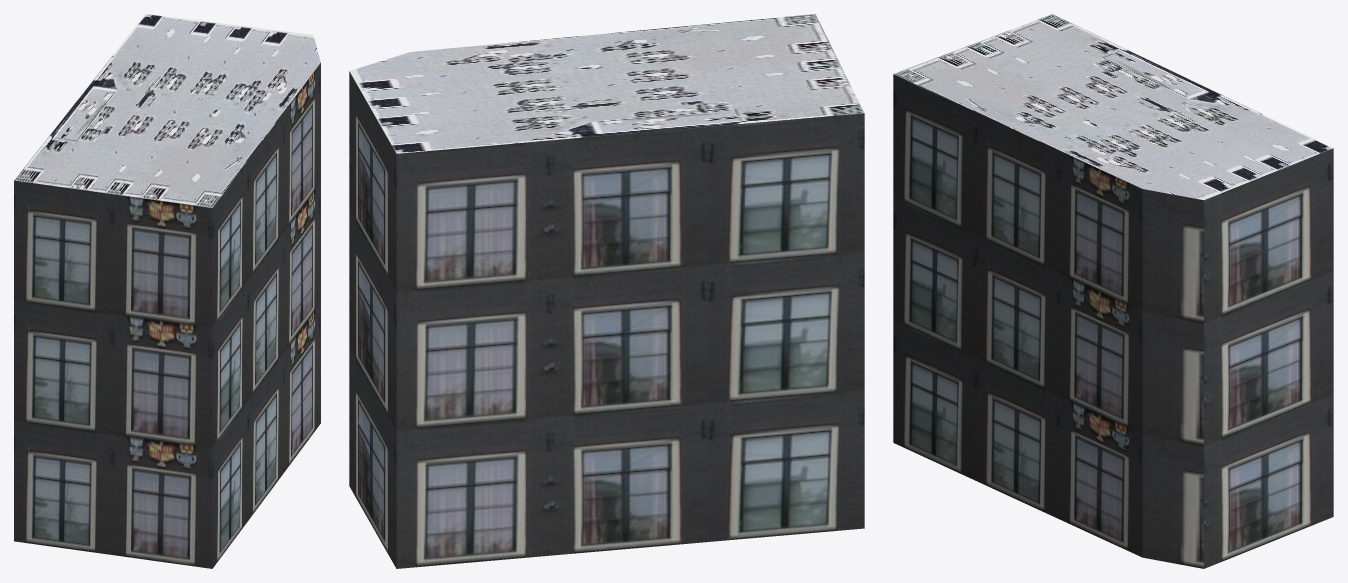
The model's file is ResTex__2811.fbx.
The picture shows the model from 3 angles, left to right: view 1: azimuth 30°, elevation 25°; view 2: azimuth 150°, elevation 25°; view 3: azimuth 270°, elevation 25°; orthographic projection. The views are drawn at different scales.
Parts seen in each view (by area): view 1: CityEngineMaterial_22_m, CityEngineMaterial_4_m; view 2: CityEngineMaterial_22_m, CityEngineMaterial_4_m; view 3: CityEngineMaterial_22_m, CityEngineMaterial_4_m.
Boxes of the visible parts, x1=… form: CityEngineMaterial_22_m: x1=14, y1=63, x2=320, y2=568; CityEngineMaterial_4_m: x1=14, y1=14, x2=320, y2=207; CityEngineMaterial_22_m: x1=349, y1=71, x2=864, y2=568; CityEngineMaterial_4_m: x1=349, y1=14, x2=864, y2=153; CityEngineMaterial_22_m: x1=893, y1=74, x2=1333, y2=568; CityEngineMaterial_4_m: x1=893, y1=14, x2=1333, y2=200.
Bounding box in the file's own units: 9.75 × 9 × 9.75.
Materials: 2 (2 with a texture image).
